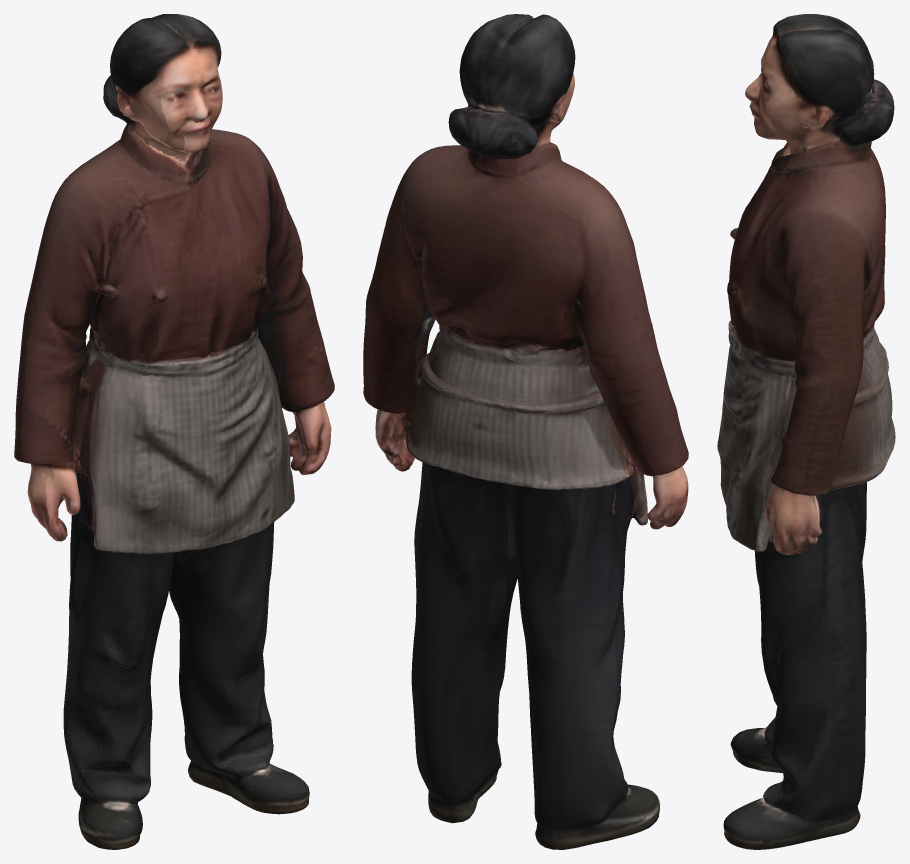
Rendered from villager_elder.glb.
3 renders of one model, left to right at view 1: azimuth 30°, elevation 25°; view 2: azimuth 150°, elevation 25°; view 3: azimuth 270°, elevation 25°, orthographic. The views are drawn at different scales.
Parts seen in each view (by area): view 1: geometry_0; view 2: geometry_0; view 3: geometry_0.
Boxes of the visible parts, x1=… form: geometry_0: x1=14, y1=14, x2=334, y2=849; geometry_0: x1=363, y1=14, x2=688, y2=849; geometry_0: x1=717, y1=14, x2=895, y2=849.
Size of the model in its own units: 0.6904 by 1.65 by 0.3429.
Materials: 1 (1 with a texture image).
